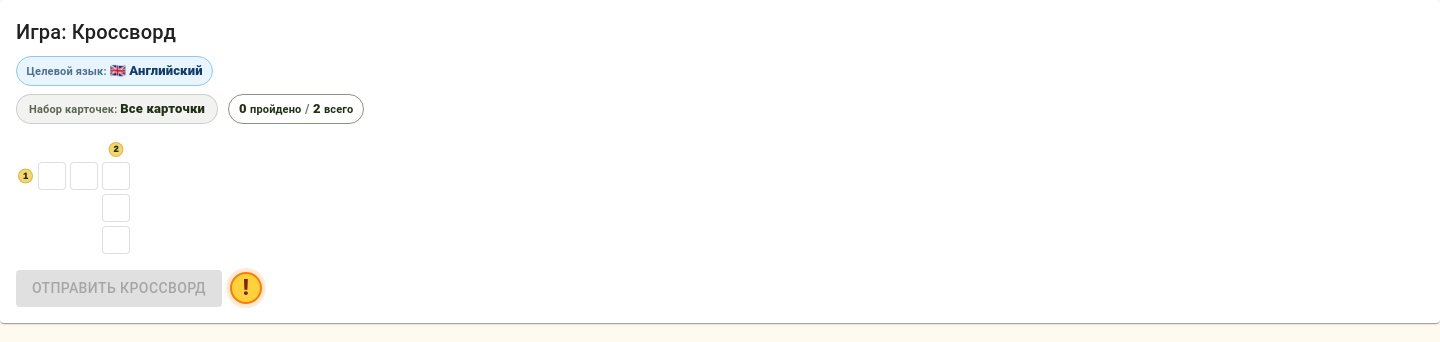
Scenario: CrosswordExercise › submits all crossword words and colors the checked grid
The width and height of the screenshot is (1440, 342).
In the field named "Crossword cell 1 1": {"x": 52, "y": 176} [38,162,66,190], type "c"
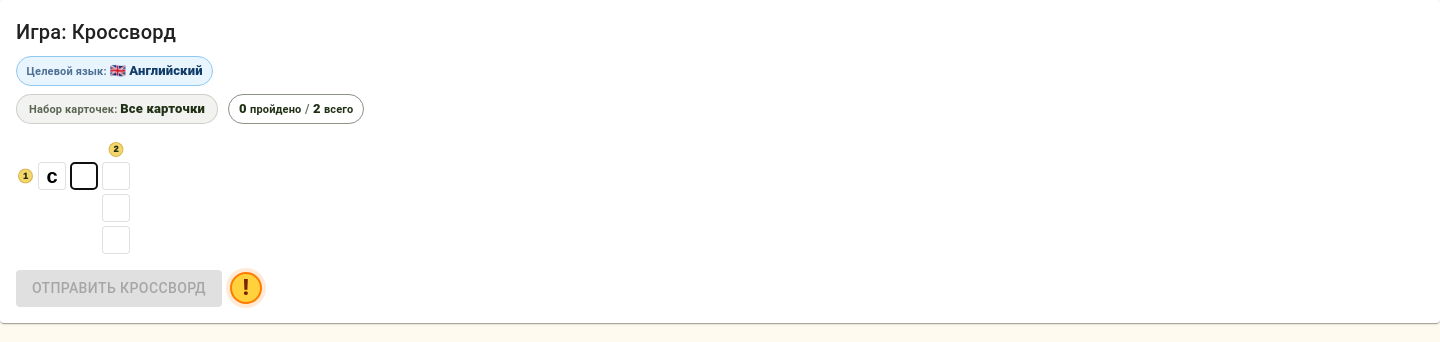
In the field named "Crossword cell 1 2": {"x": 84, "y": 176} [70,162,98,190], type "a"
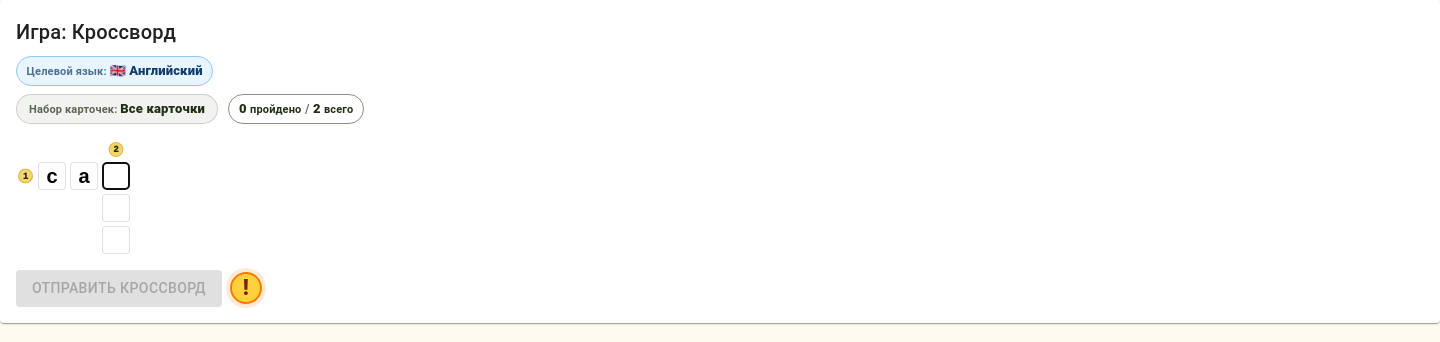
In the field named "Crossword cell 1 3": {"x": 116, "y": 176} [102,162,130,190], type "t"
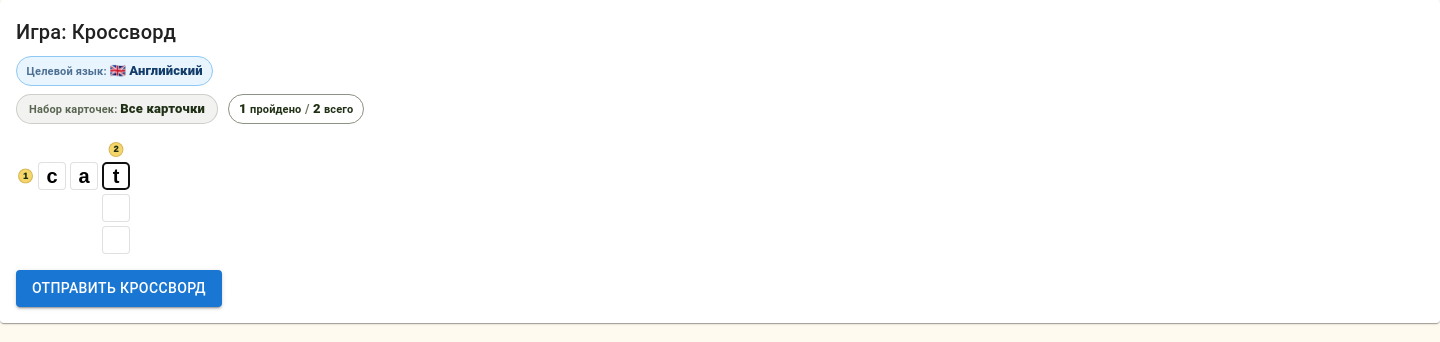
Click the button "Отправить кроссворд": {"x": 119, "y": 288} [16,270,222,306]
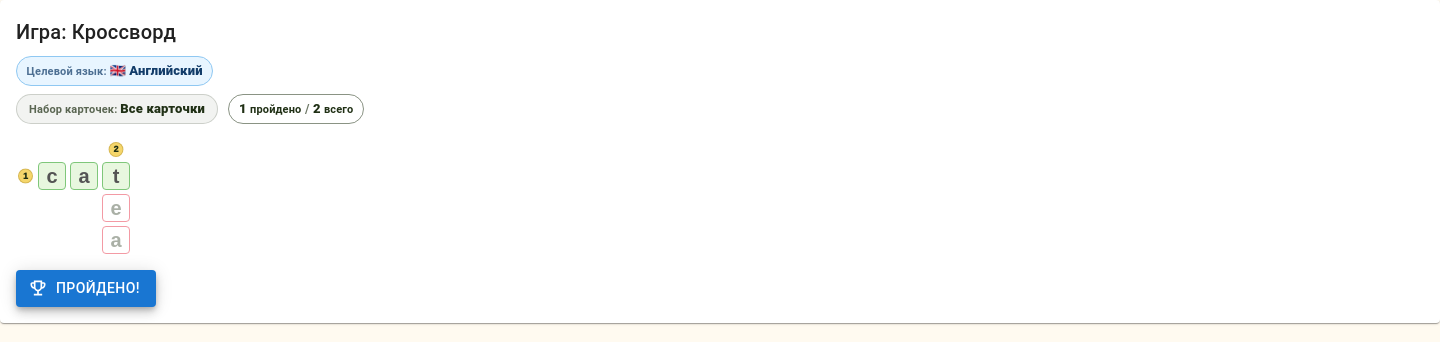
Expected: the field named "Crossword cell 2 3" holds "e", [102,194,130,222]
Expected: the field named "Crossword cell 3 3" holds "a", [102,226,130,254]
